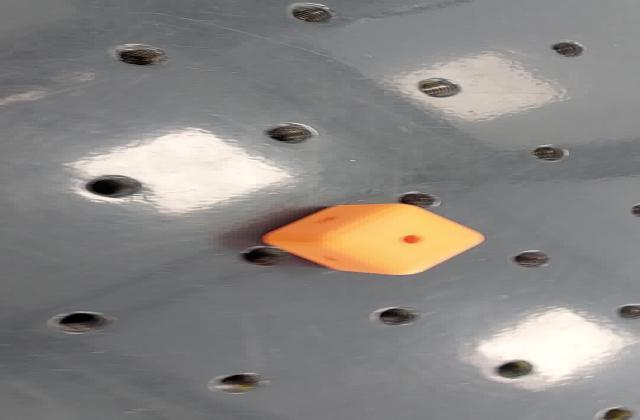cube: (250, 200, 488, 278)
